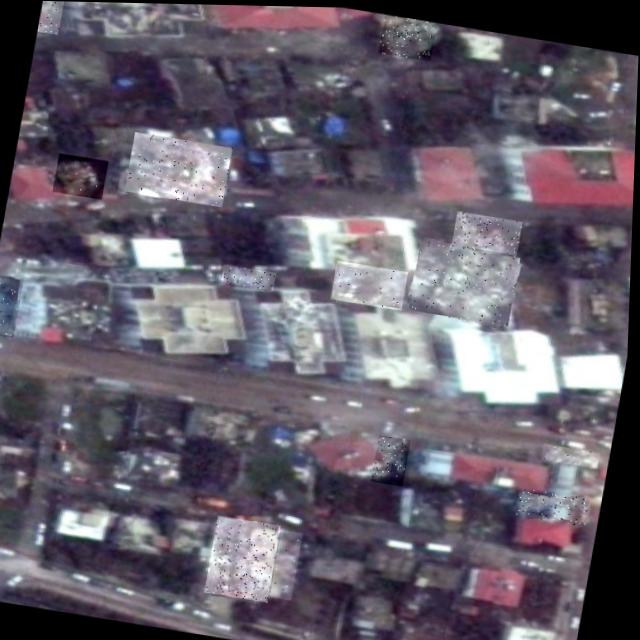Rubble: (408, 237, 523, 326), (125, 131, 233, 206), (208, 514, 284, 601), (331, 257, 410, 308), (452, 209, 524, 253), (517, 485, 595, 524), (377, 13, 437, 60), (53, 153, 109, 199), (273, 529, 306, 599), (373, 433, 413, 485), (0, 274, 25, 338), (542, 441, 602, 466), (222, 264, 277, 289), (36, 1, 65, 34)
